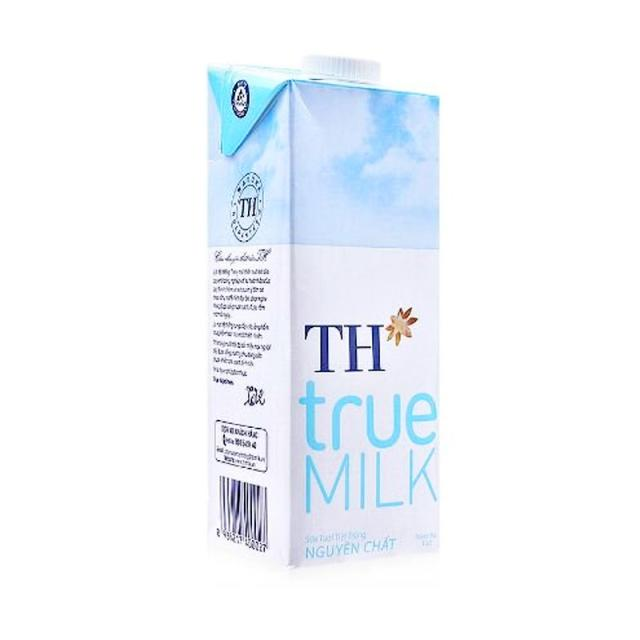non_white_jug: (172, 33, 458, 554)
